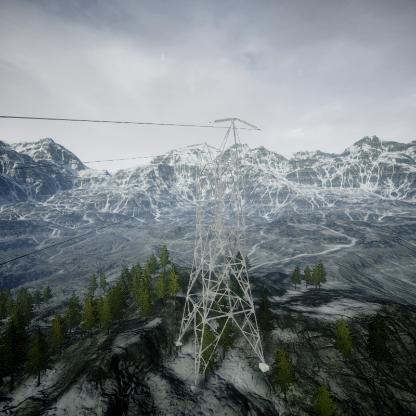tower: (171, 118, 271, 398)
